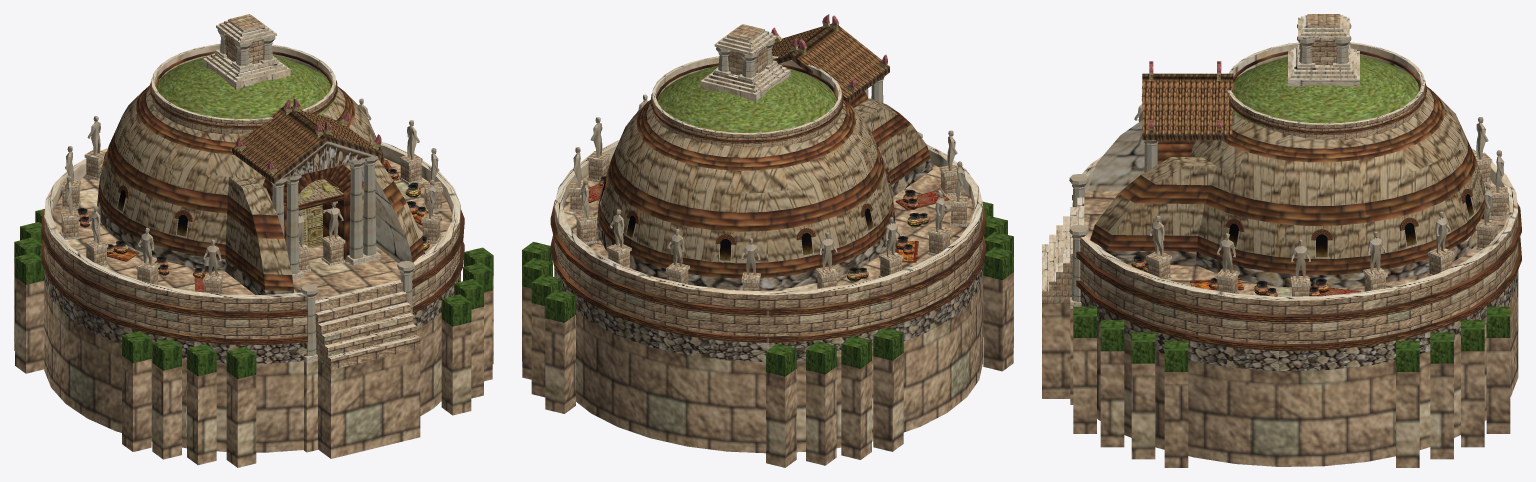
Rendered from wonder.dae.
The picture shows the model from 3 angles, left to right: view 1: azimuth 30°, elevation 25°; view 2: azimuth 150°, elevation 25°; view 3: azimuth 270°, elevation 25°; orthographic projection. The views are drawn at different scales.
Parts seen in each view (by area): view 1: wonder; view 2: wonder; view 3: wonder.
Boxes of the visible parts, left/top/right/bottom form: wonder: left=14, top=14, right=493, bottom=467; wonder: left=522, top=14, right=1013, bottom=467; wonder: left=1042, top=14, right=1521, bottom=467.
Bounding box in the file's own units: 56.51 × 59.29 × 48.69.
